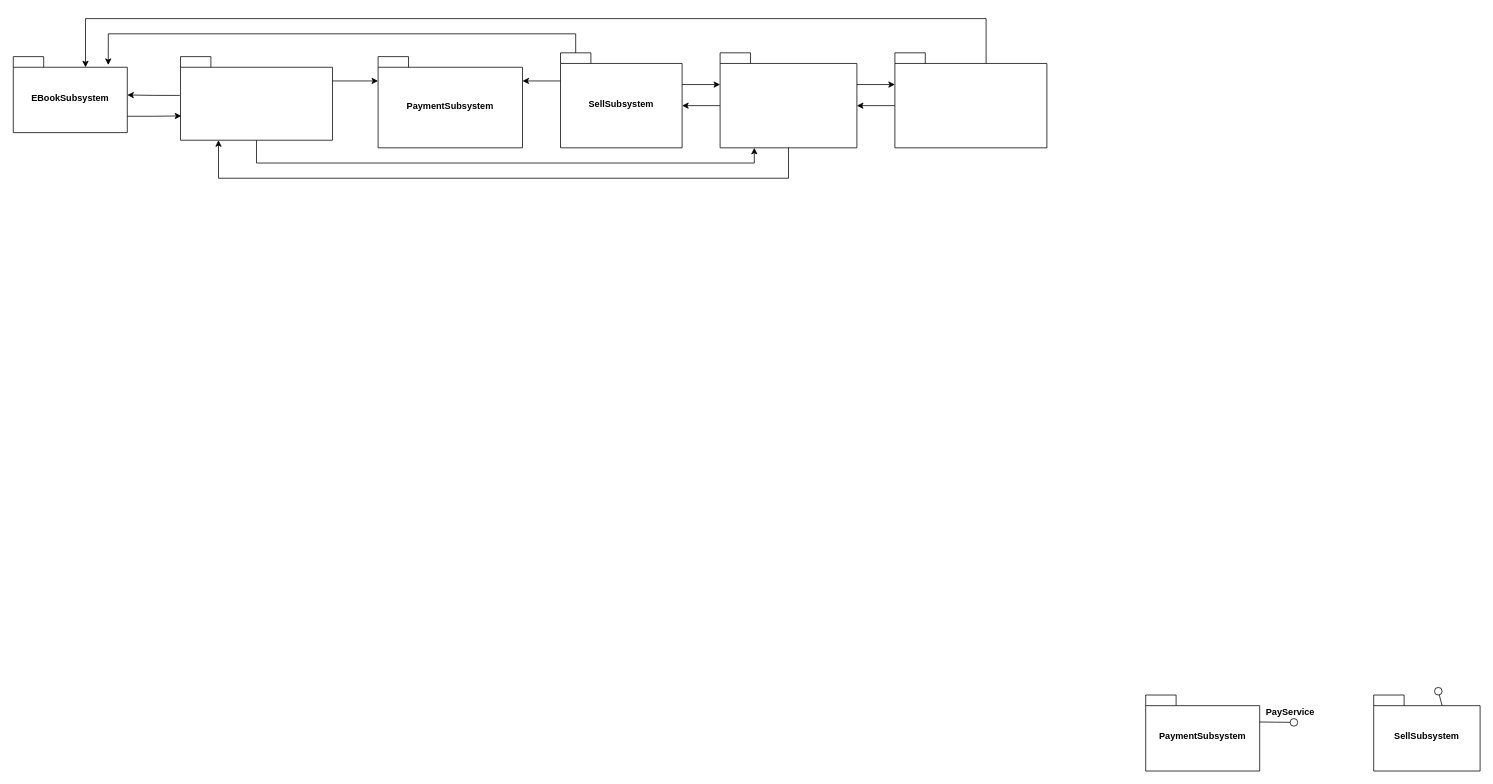
The diagram is 1493 pixels wide and 784 high, and some of its shapes have lost their labels. The shapes that lost their labels are listed below. From the top down, each one's centre as x and y in pixels, then its label:
At pixel 256 98: "ProposalSubsystem".
At pixel 788 100: "UserSubsystem".
At pixel 970 100: "RemovalRequestSubsystem".
